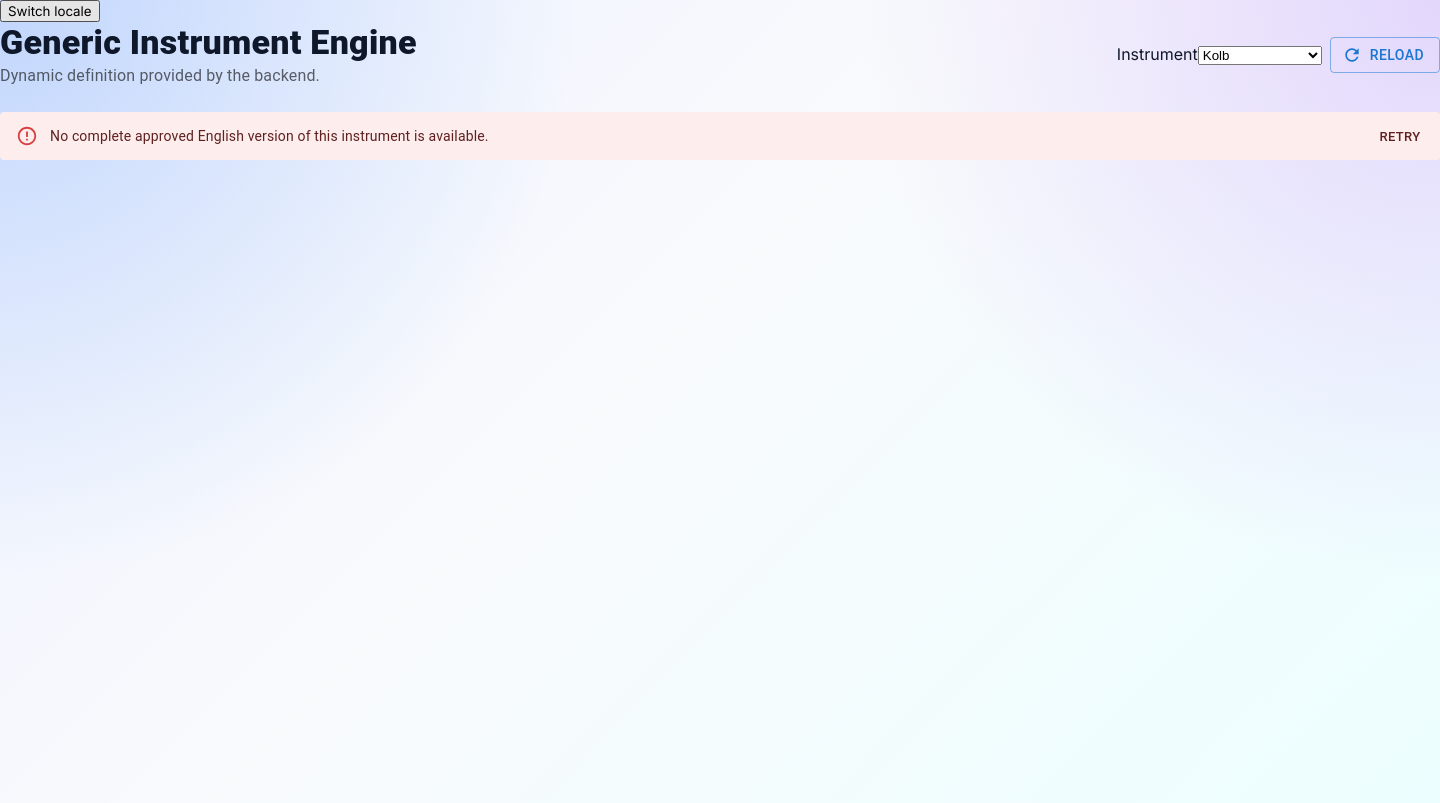
blocks incomplete en content and recovers only after a successful retry
This screenshot has width=1440, height=803.
Expected: the message shows "No complete approved English version", [50, 128, 489, 144]
Expected: the text "Synthetic en" is not shown
Click the button "Retry": (1400, 137) [1368, 122, 1432, 153]
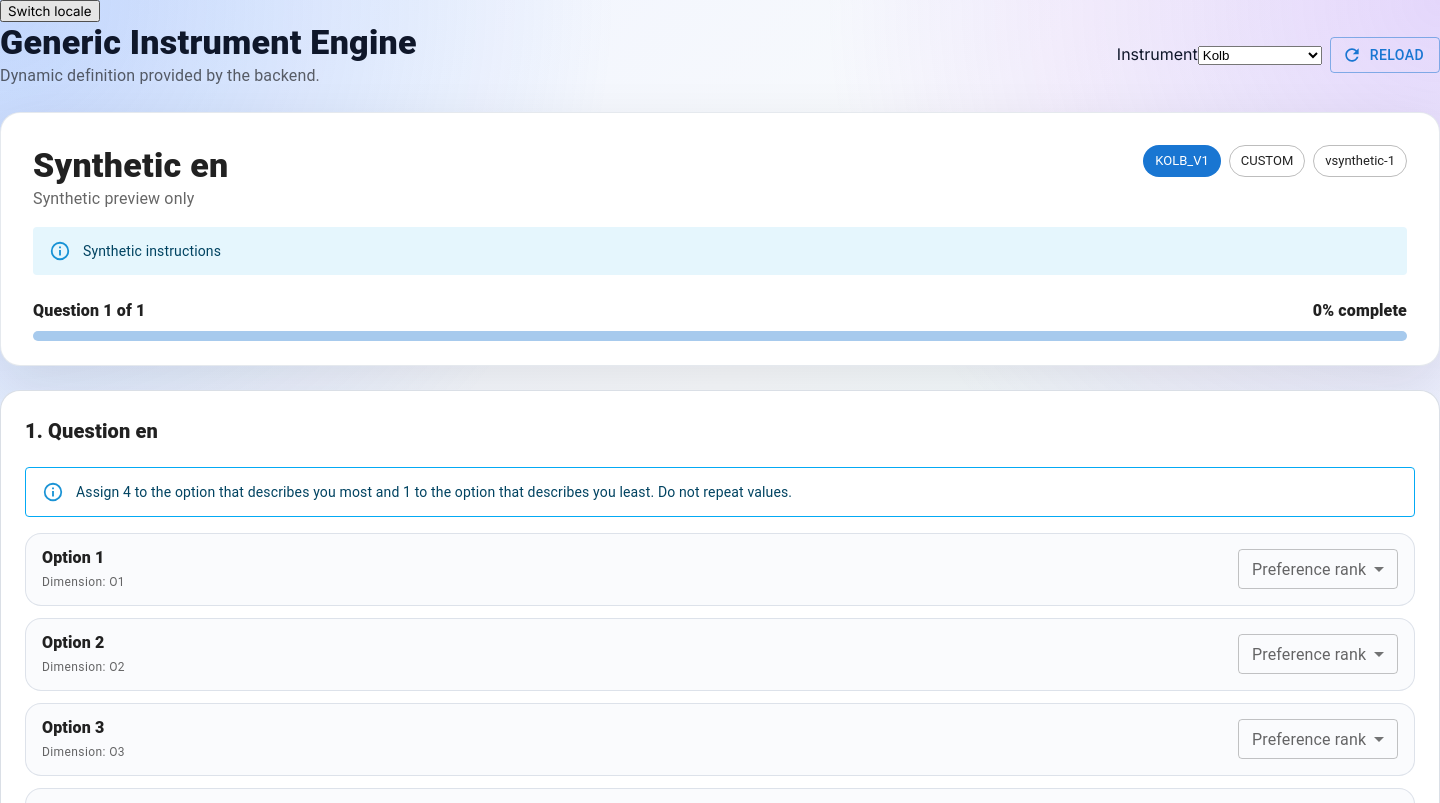
Expected: the heading "Synthetic en" is shown, [33, 145, 228, 187]
